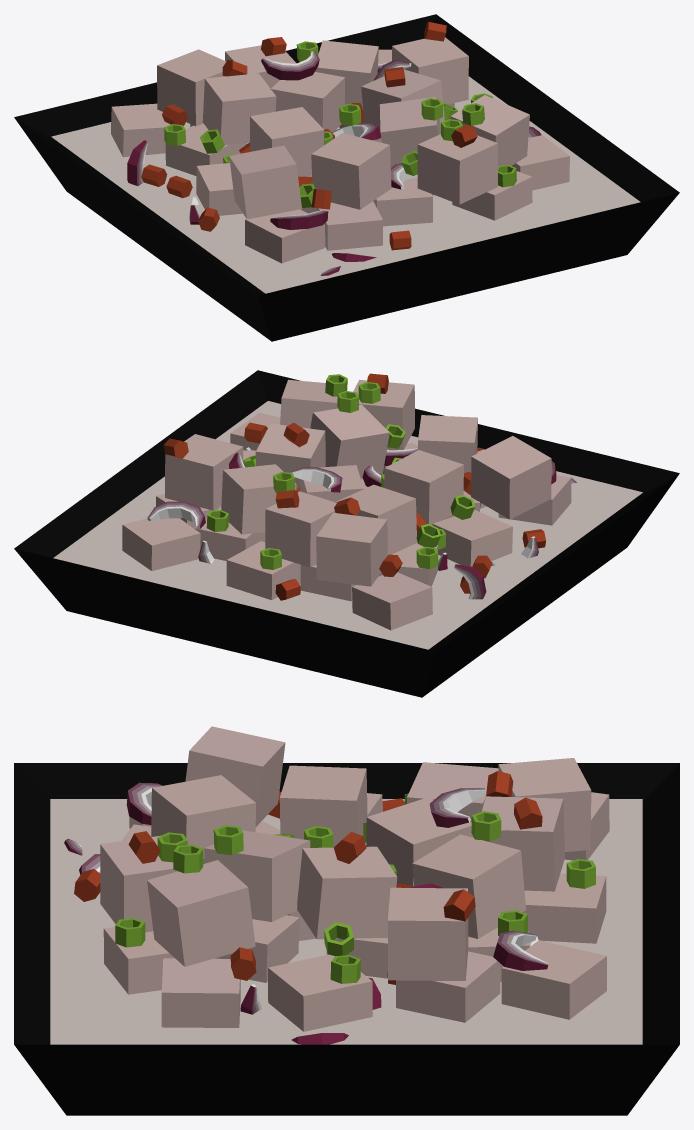
File: FINAL_Kinilaw na Tangigue.fbx
3 views of the same model, one above another, from view 1: azimuth 30°, elevation 25°; view 2: azimuth 150°, elevation 25°; view 3: azimuth 270°, elevation 25° (orthographic). The views are drawn at different scales.
Parts seen in each view (by area): view 1: Kinilaw na Tangigue; view 2: Kinilaw na Tangigue; view 3: Kinilaw na Tangigue.
Part boxes in pixels (x1,y1,x2,y2): Kinilaw na Tangigue: (14,14,679,341); Kinilaw na Tangigue: (14,370,679,697); Kinilaw na Tangigue: (14,726,679,1115).
Size of the model in its own units: 94.43 by 30.38 by 94.43.
